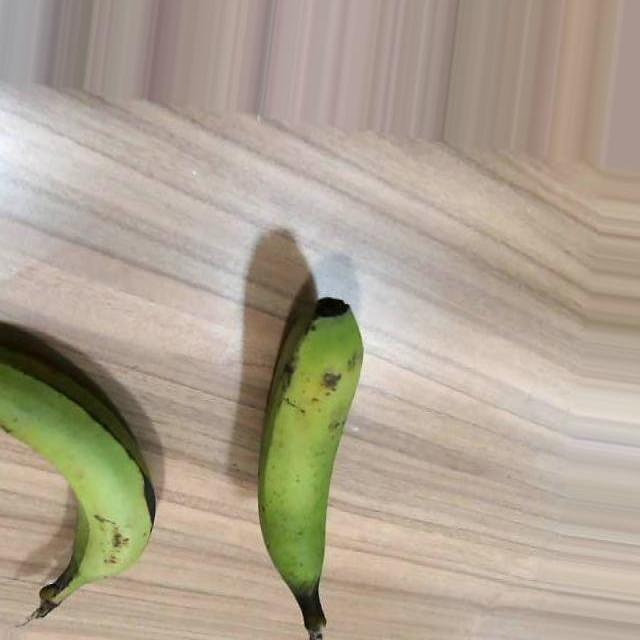Unripe: (0, 342, 158, 624), (255, 297, 366, 640)
